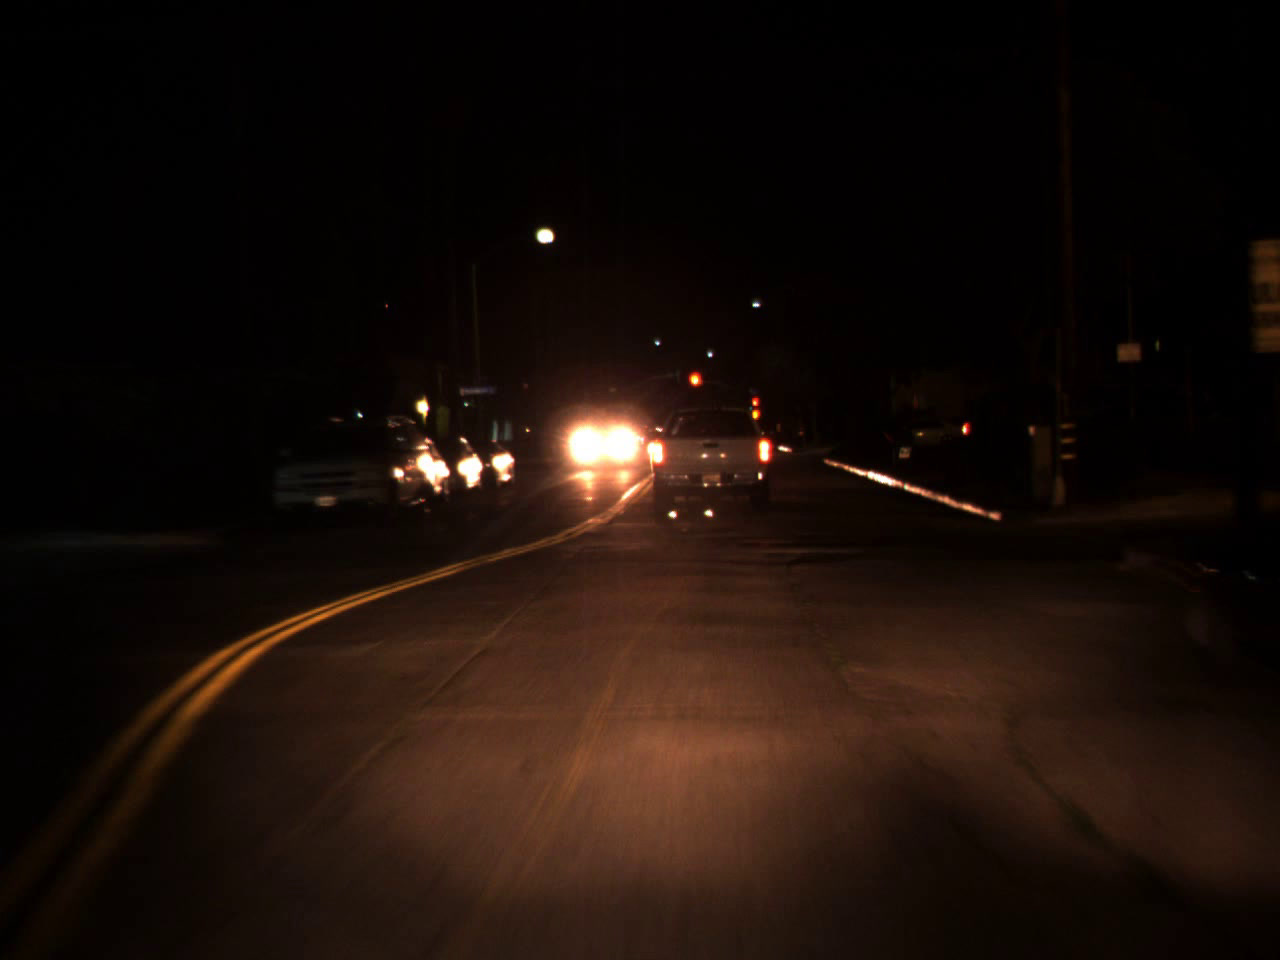stop: (687, 371, 703, 403), (750, 396, 759, 417)
